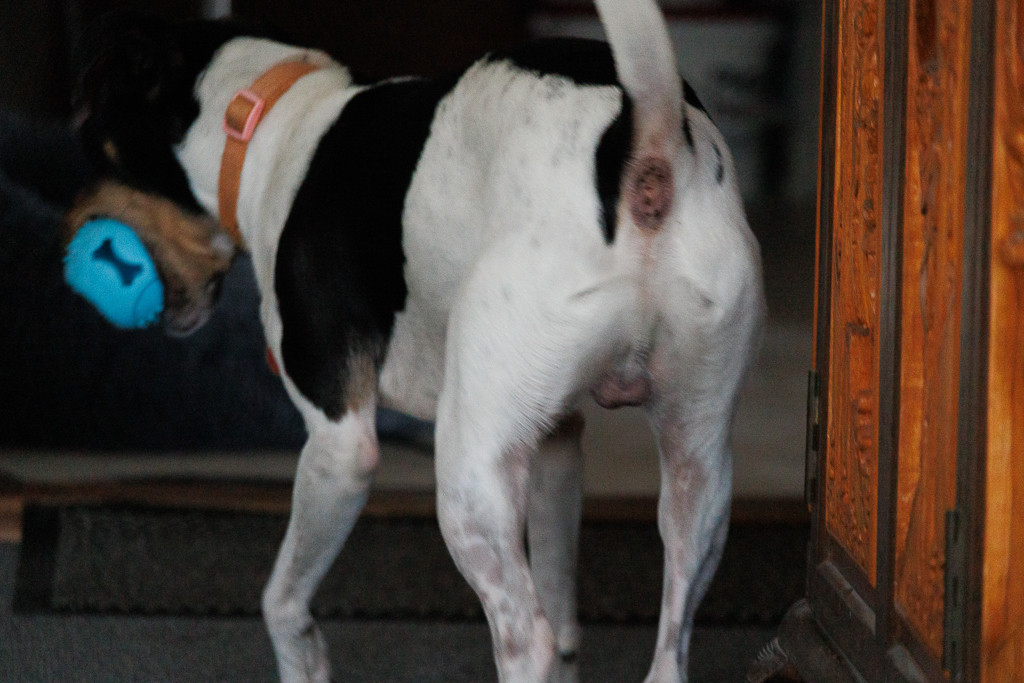Dog: (40, 0, 791, 683)
